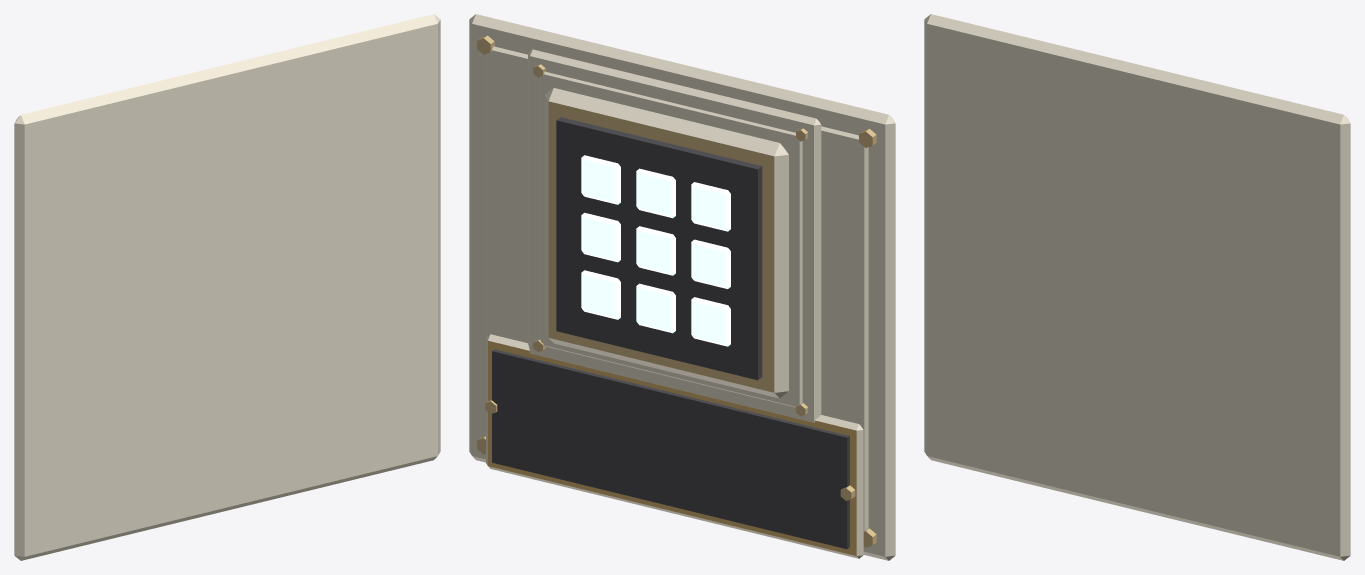
Rendered from Disp_Glyph.fbx.
3 views of the same model, side by side, from view 1: azimuth 30°, elevation 25°; view 2: azimuth 150°, elevation 25°; view 3: azimuth 330°, elevation 25° (orthographic).
Visible parts, largest first — view 1: Disp_Glyph; view 2: Disp_Glyph, Cell2, Cell3, Cell7, Cell8, Cell1, Cell4, Cell5, Cell0, Cell6; view 3: Disp_Glyph.
Part boxes in pixels (x1=…): Disp_Glyph: x1=14, y1=14, x2=440, y2=560; Disp_Glyph: x1=469, y1=14, x2=895, y2=560; Cell2: x1=691, y1=182, x2=730, y2=231; Cell3: x1=581, y1=212, x2=620, y2=262; Cell7: x1=636, y1=283, x2=675, y2=333; Cell8: x1=691, y1=297, x2=730, y2=346; Cell1: x1=636, y1=168, x2=675, y2=218; Cell4: x1=636, y1=226, x2=675, y2=275; Cell5: x1=691, y1=239, x2=730, y2=288; Cell0: x1=581, y1=155, x2=620, y2=204; Cell6: x1=581, y1=270, x2=620, y2=319; Disp_Glyph: x1=924, y1=14, x2=1350, y2=560.
Size of the model in its own units: 0.96 by 0.96 by 0.1244.
